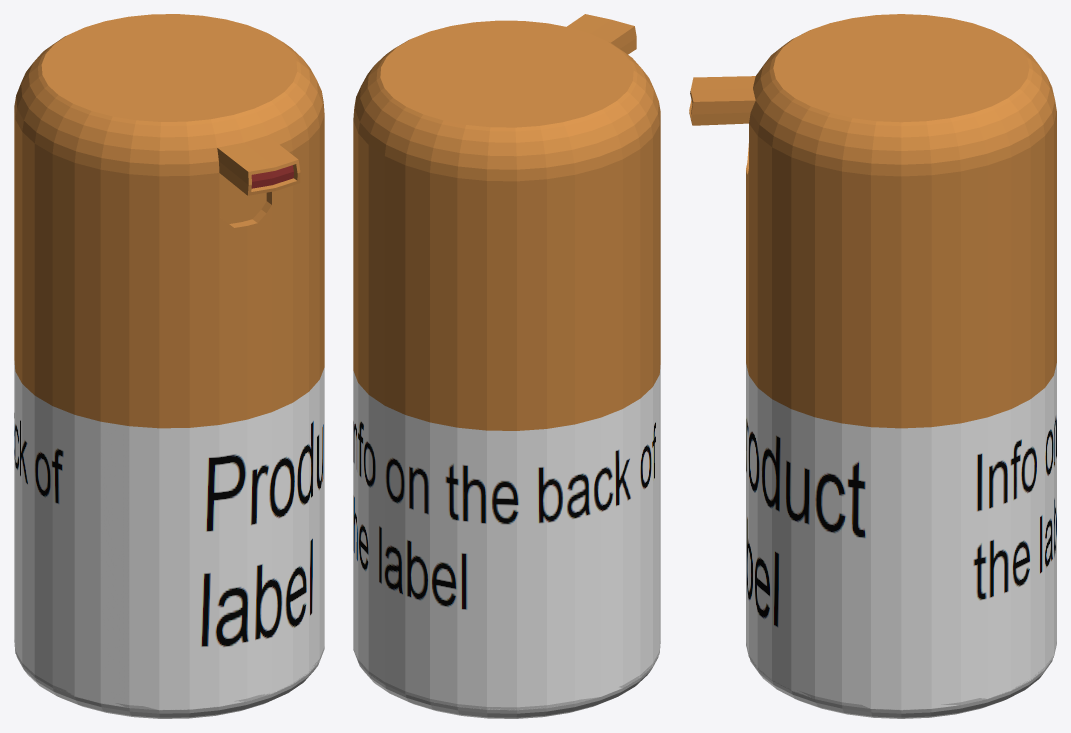
The model's file is product_placeholder_2.glb.
3 views of the same model, side by side, from view 1: azimuth 30°, elevation 25°; view 2: azimuth 150°, elevation 25°; view 3: azimuth 270°, elevation 25° (orthographic).
Visible parts, largest first — view 1: Cylinder; view 2: Cylinder; view 3: Cylinder.
Part boxes in pixels (x1,y1,x2,y2): Cylinder: [14, 14, 324, 718]; Cylinder: [353, 14, 660, 718]; Cylinder: [689, 14, 1056, 718].
Size of the model in its own units: 2.2 by 4.63 by 2.6.
Materials: 4 (1 with a texture image).
